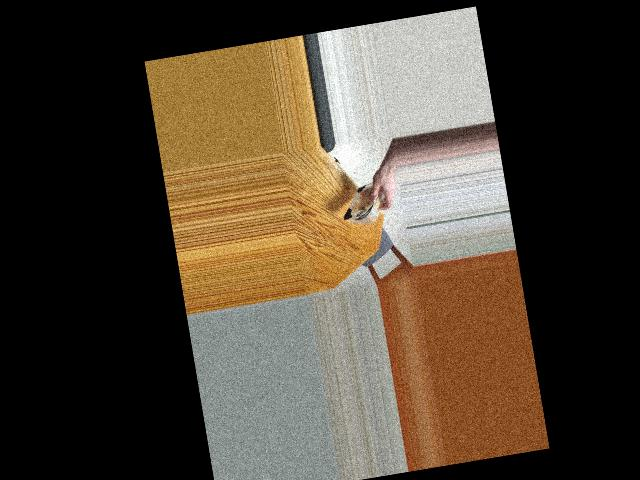cheese: (338, 168, 386, 232)
